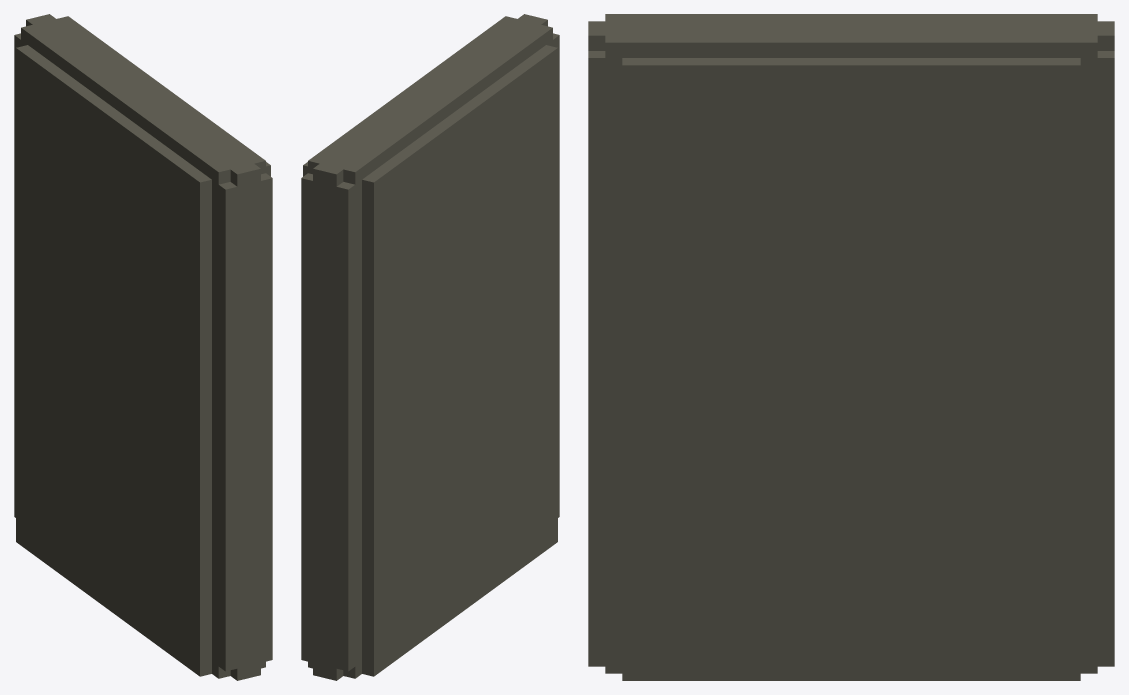
Rendered from factory4.5-2.obj.
The picture shows the model from 3 angles, left to right: view 1: azimuth 30°, elevation 25°; view 2: azimuth 150°, elevation 25°; view 3: azimuth 270°, elevation 25°; orthographic projection. The views are drawn at different scales.
Size of the model in its own units: 0.6 by 4.1 by 3.1.
Materials: 1 (1 with a texture image).
